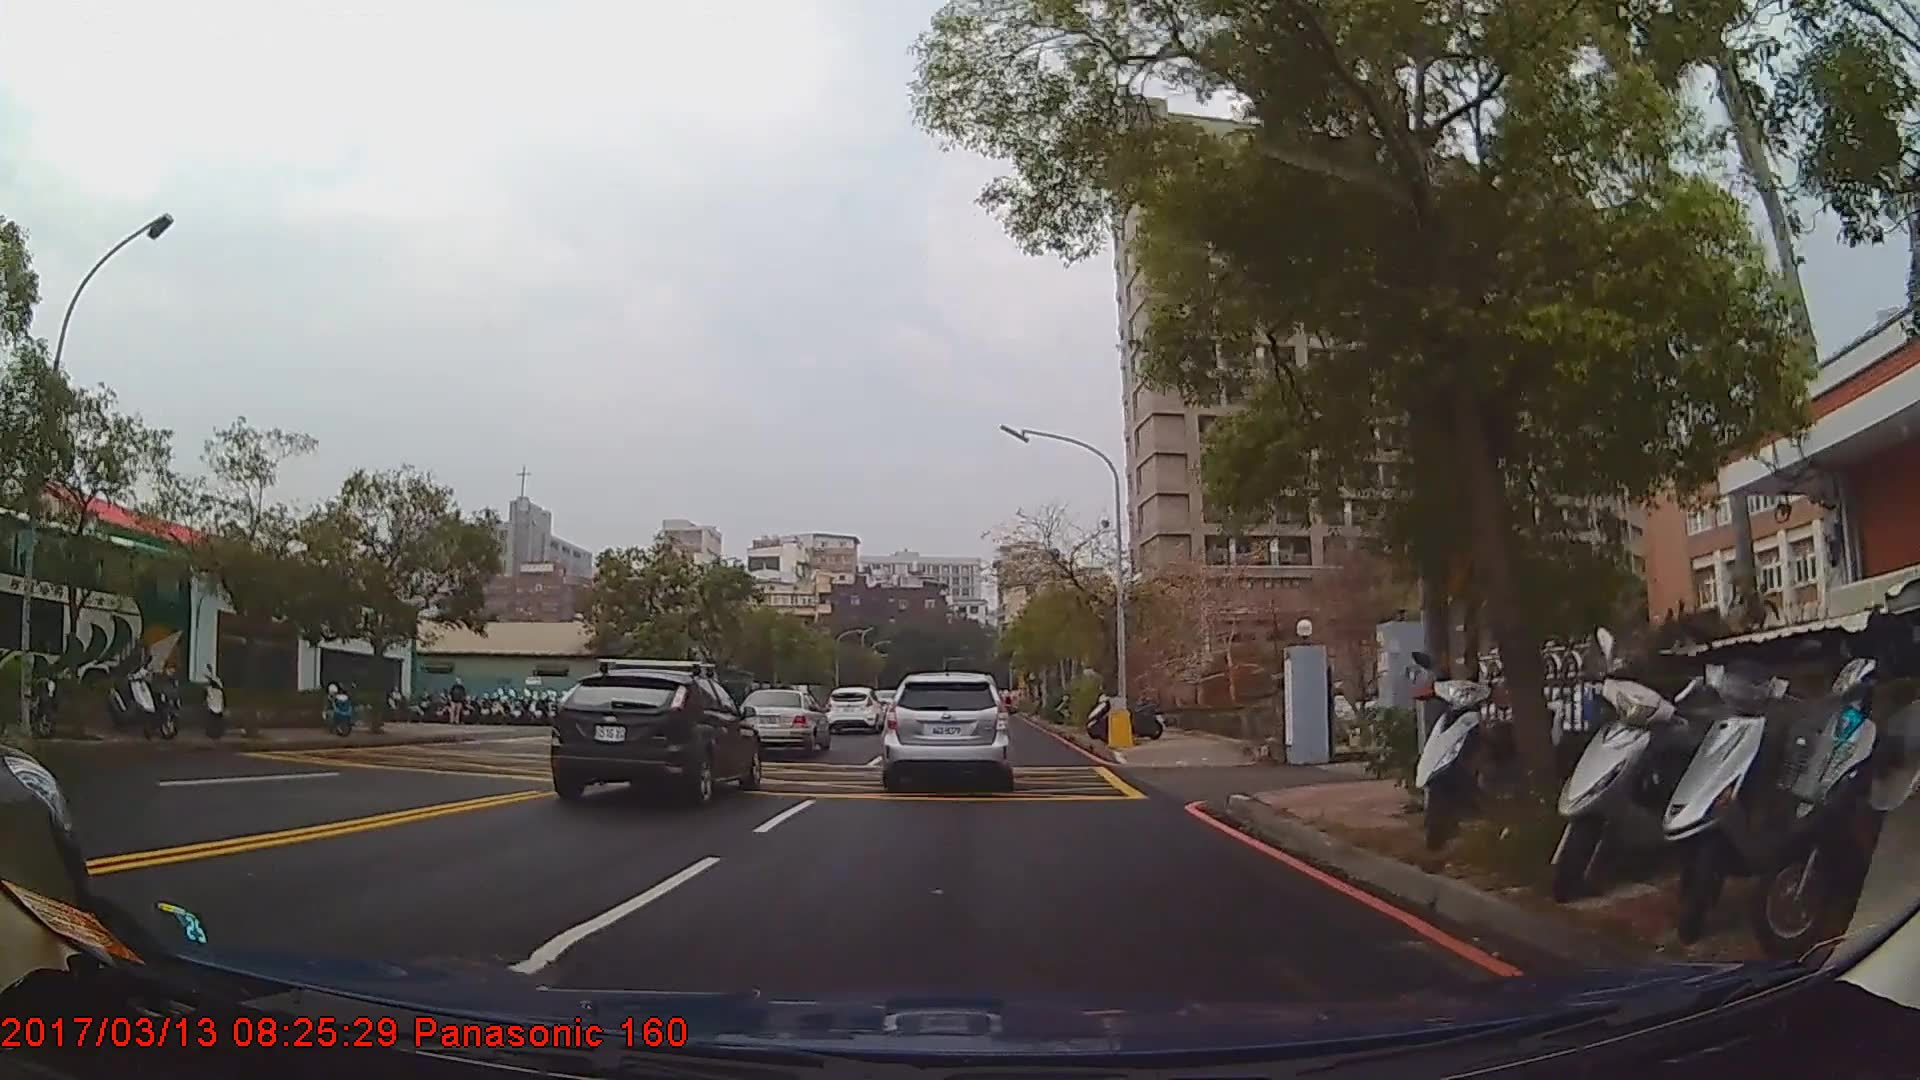pedestrian: (449, 680, 469, 727)
vehicle: (0, 503, 194, 728), (548, 668, 760, 808), (885, 670, 1010, 785), (735, 688, 827, 756), (824, 685, 884, 736)
